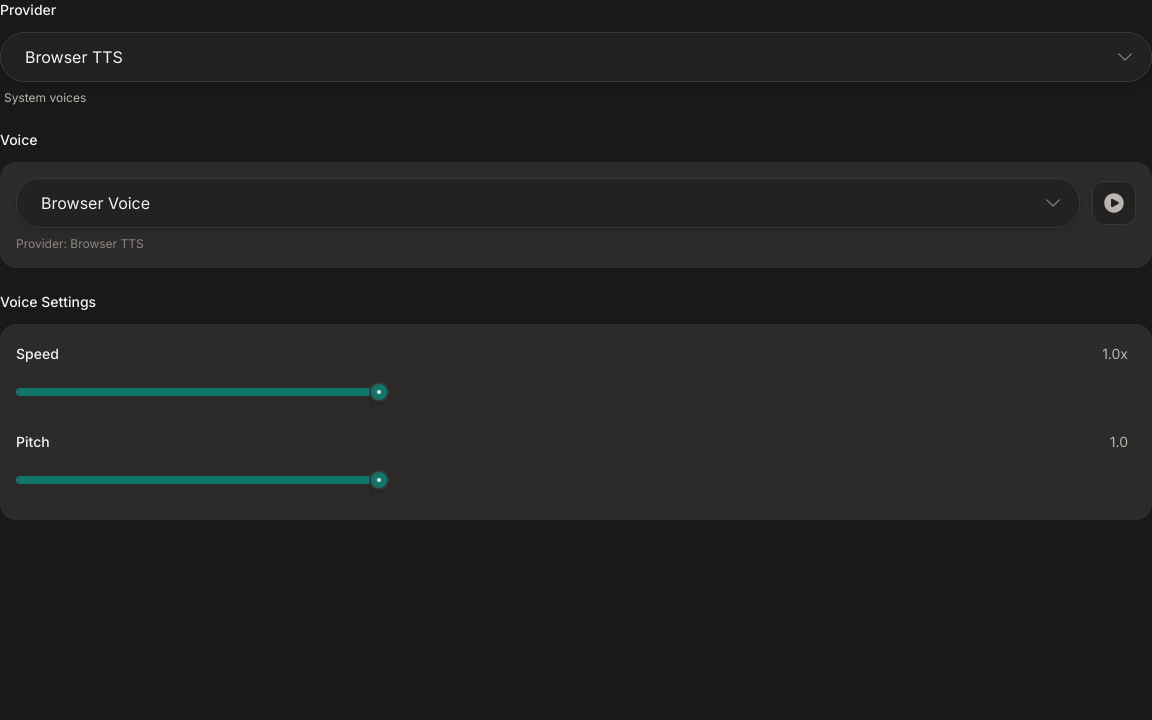
Test: TTSSettings provider dropdown › hides cloud providers while offline
Click the button "Browser TTS" at (74, 57), box [0,32,1151,82]
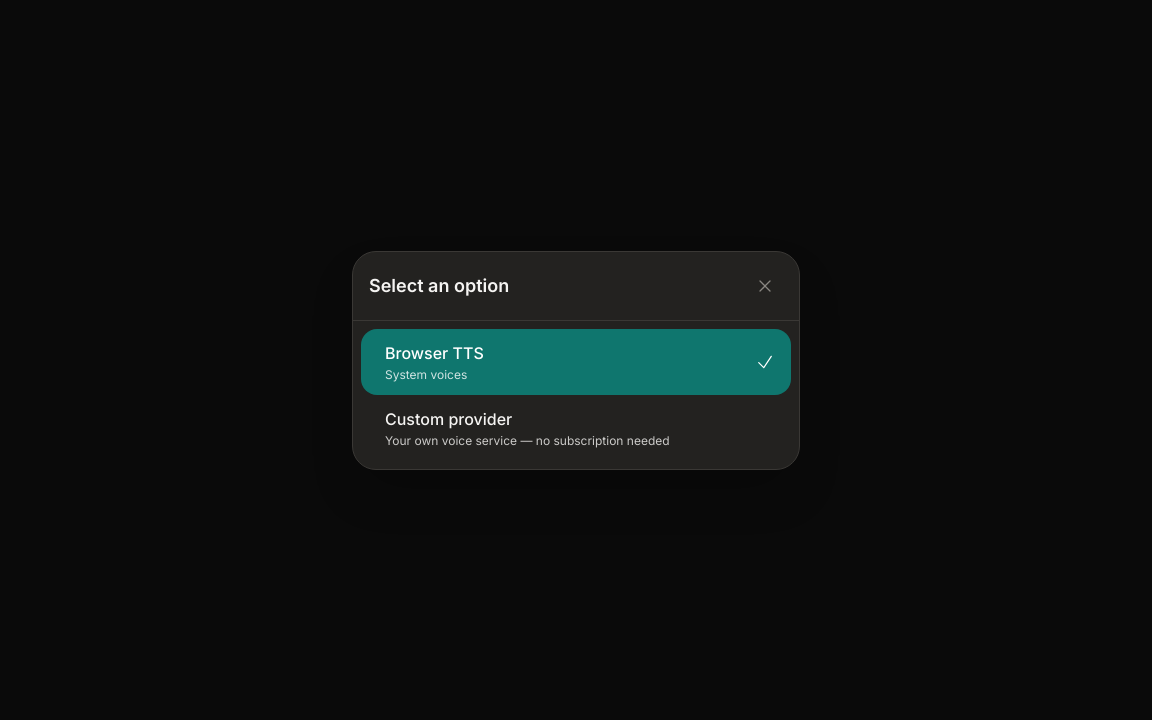
Expected: the text "Browser TTS" is shown, [385,340,484,364]
